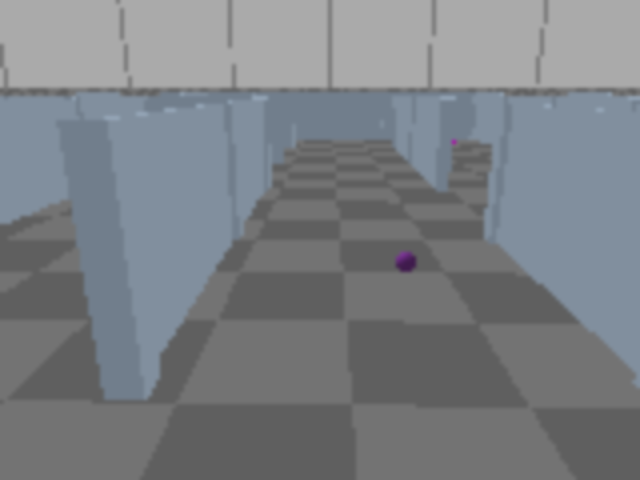puck: (393, 248, 418, 275)
